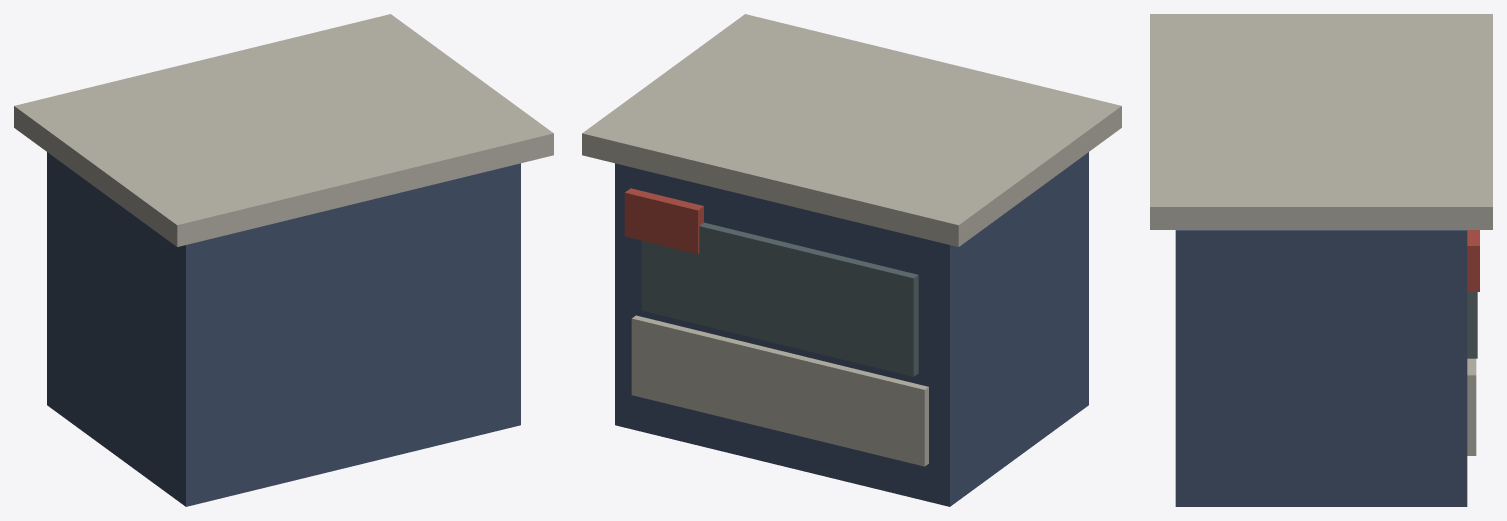
The model's file is b_kiosk.glb.
3 views of the same model, side by side, from view 1: azimuth 30°, elevation 25°; view 2: azimuth 150°, elevation 25°; view 3: azimuth 270°, elevation 25° (orthographic). The views are drawn at different scales.
Visible parts, largest first — view 1: body; view 2: body; view 3: body.
Boxes of the visible parts, x1,y1,x2,y2 form: body: [14, 14, 553, 506]; body: [582, 14, 1121, 506]; body: [1150, 14, 1492, 506].
Size of the model in its own units: 3.6 by 2.7 by 2.7.
